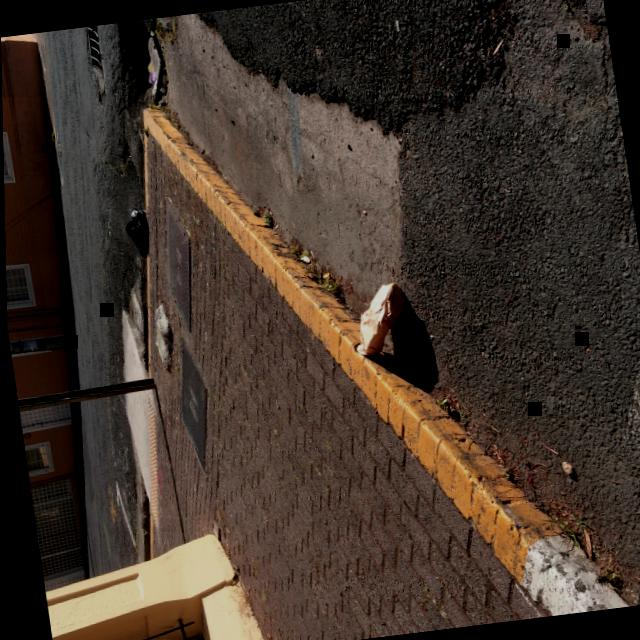Drink carton: (158, 74, 165, 94)
Garbage bag: (127, 207, 146, 258)
Other carton: (146, 60, 157, 87)
Paper bag: (353, 282, 403, 355)
